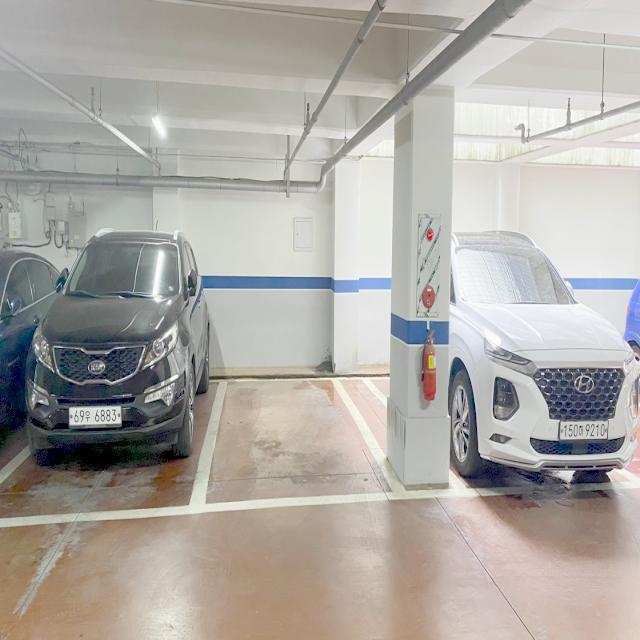empty: (202, 375, 408, 510)
occupied: (453, 226, 640, 478), (30, 231, 202, 459)
